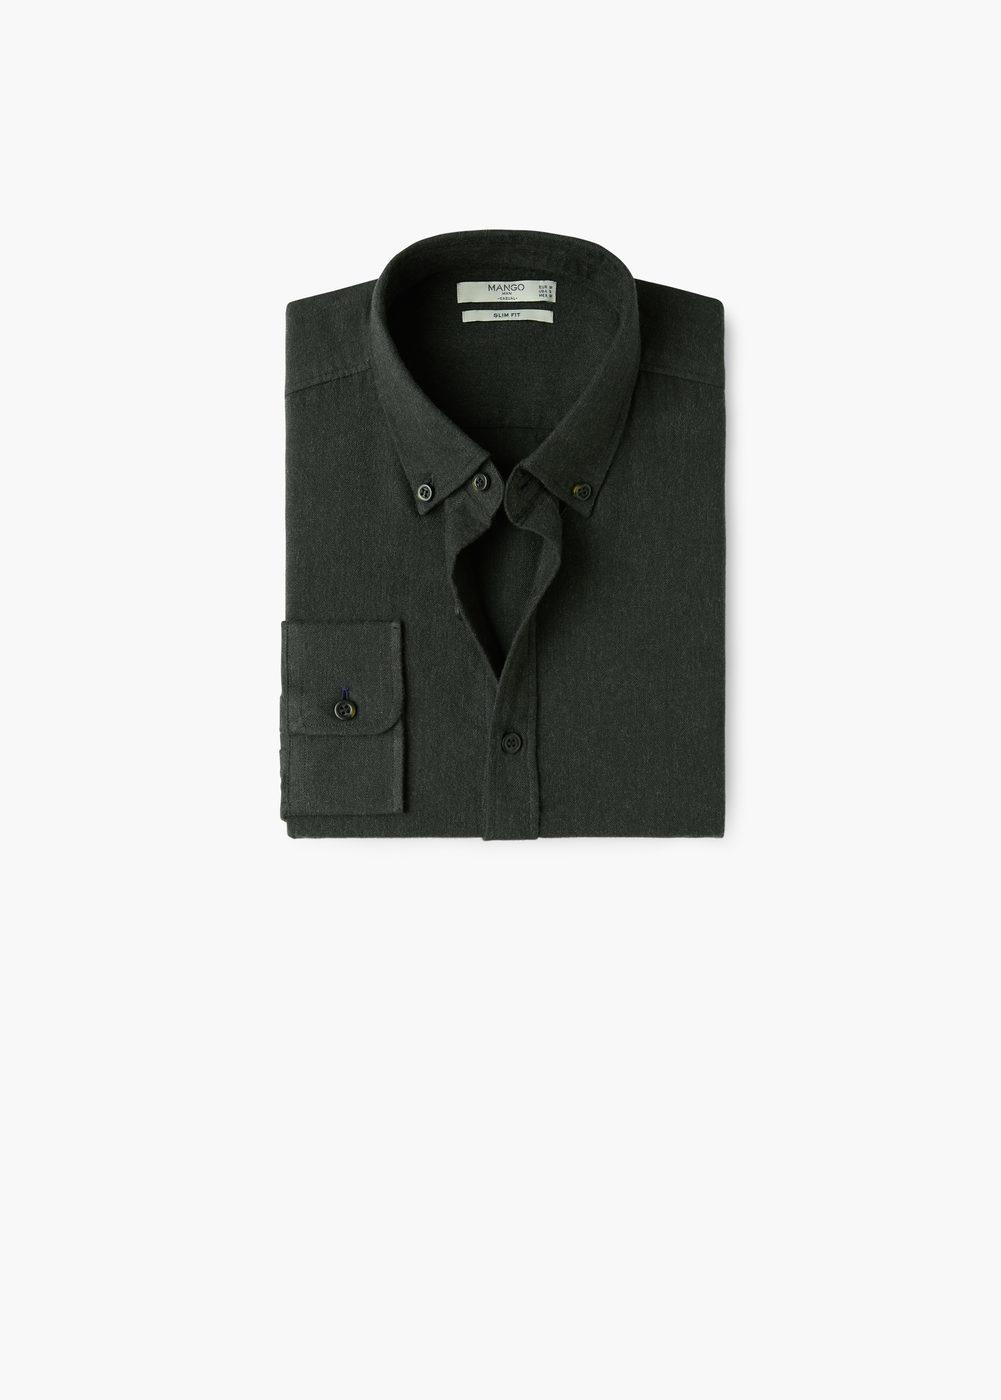teeshirt: (246, 223, 747, 855)
